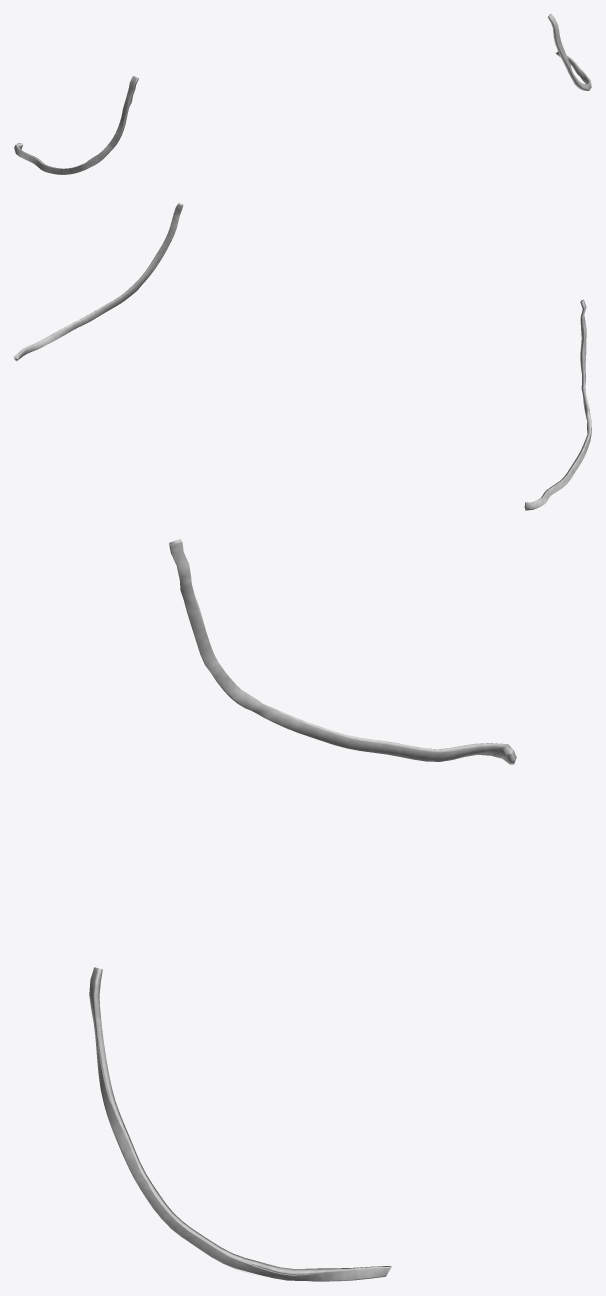
File: Pants_Pocket_TOP.glb
The picture shows the model from 3 angles, top to bottom: view 1: azimuth 30°, elevation 25°; view 2: azimuth 150°, elevation 25°; view 3: azimuth 270°, elevation 25°; orthographic projection. The views are drawn at different scales.
Parts seen in each view (by area): view 1: Pants_Pocket_TOP1; view 2: Pants_Pocket_TOP1; view 3: Pants_Pocket_TOP1.
Boxes of the visible parts, left/top/right/bottom form: Pants_Pocket_TOP1: left=14, top=14, right=591, bottom=174; Pants_Pocket_TOP1: left=14, top=203, right=591, bottom=510; Pants_Pocket_TOP1: left=89, top=539, right=516, bottom=1281.
Size of the model in its own units: 0.624 by 0.1579 by 0.2214.
2 materials, 2 textured.
